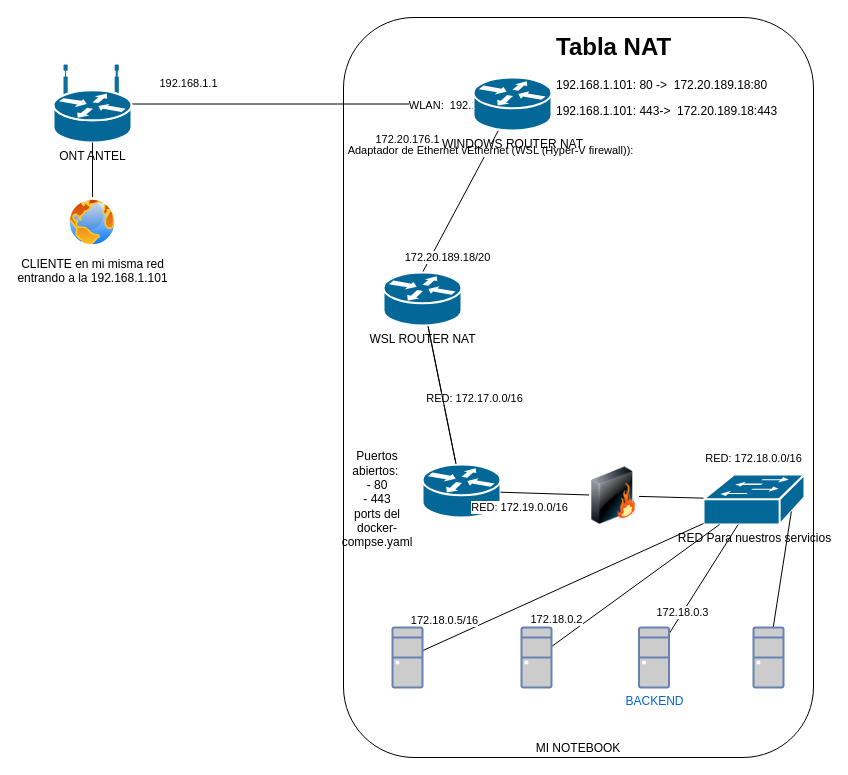
Image size: 848x775. Some labels were removed from this diagram. The shapes that lost their labels are listed below. From the top down, each one's centre as x and y in pixels, then its label:
pixel 461 490: Docker
pixel 407 657: PROXY
pixel 536 657: FRONTEND
pixel 768 657: BASE
